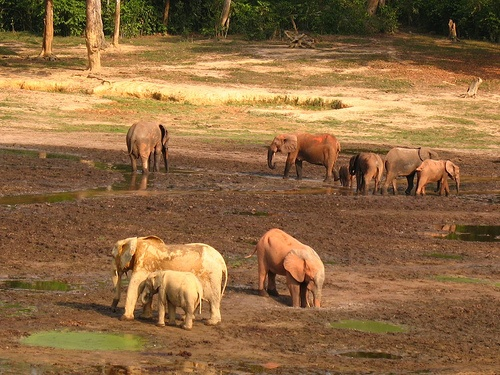elephant: (267, 131, 500, 316), (123, 122, 292, 295)
